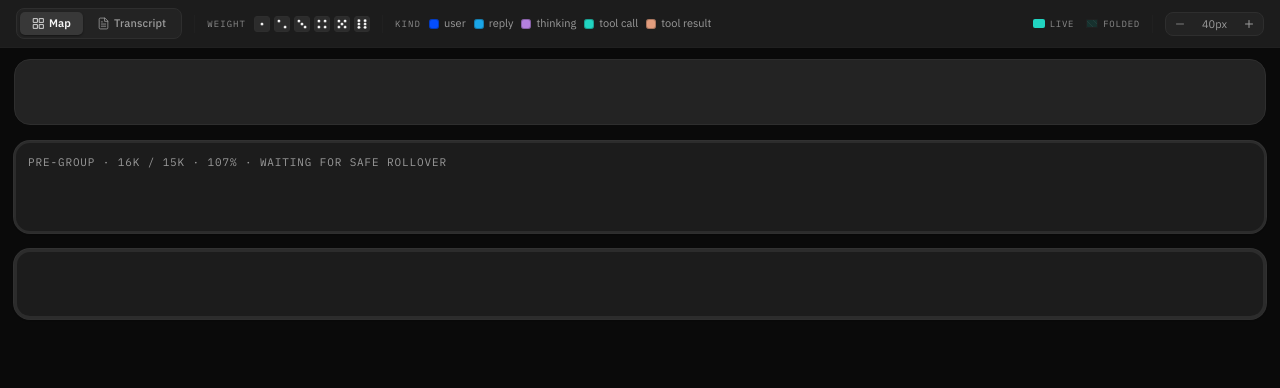
it: ContextMap Pre-Group transcript › labels above-target membership as waiting for safe rollover
Click the button "Transcript".
click(132, 24)  # box [85, 12, 178, 35]
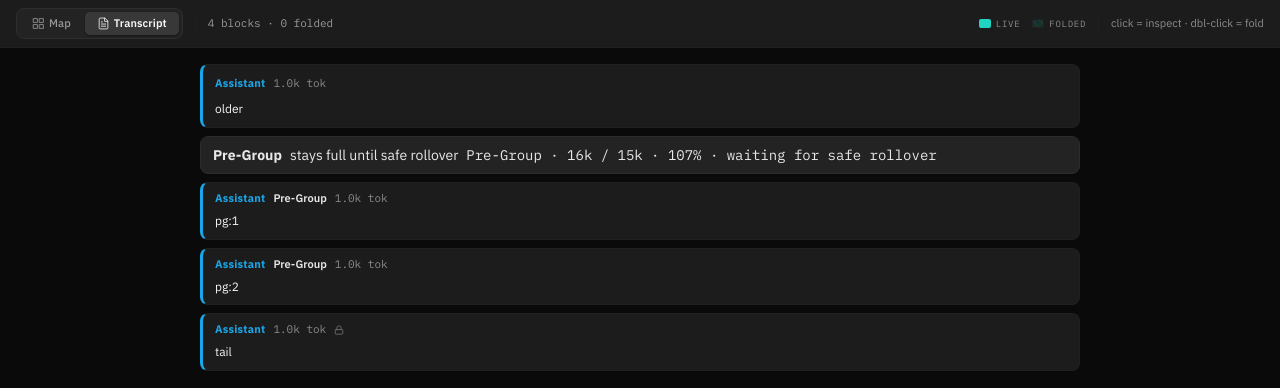
Expected: the element "Pre-Group" shows "waiting for safe rollover", [466, 146, 937, 164]
Expected: the element labelled "Assistant Pre-Group 1.0k tok pg:1" is shown, [200, 182, 1080, 240]
